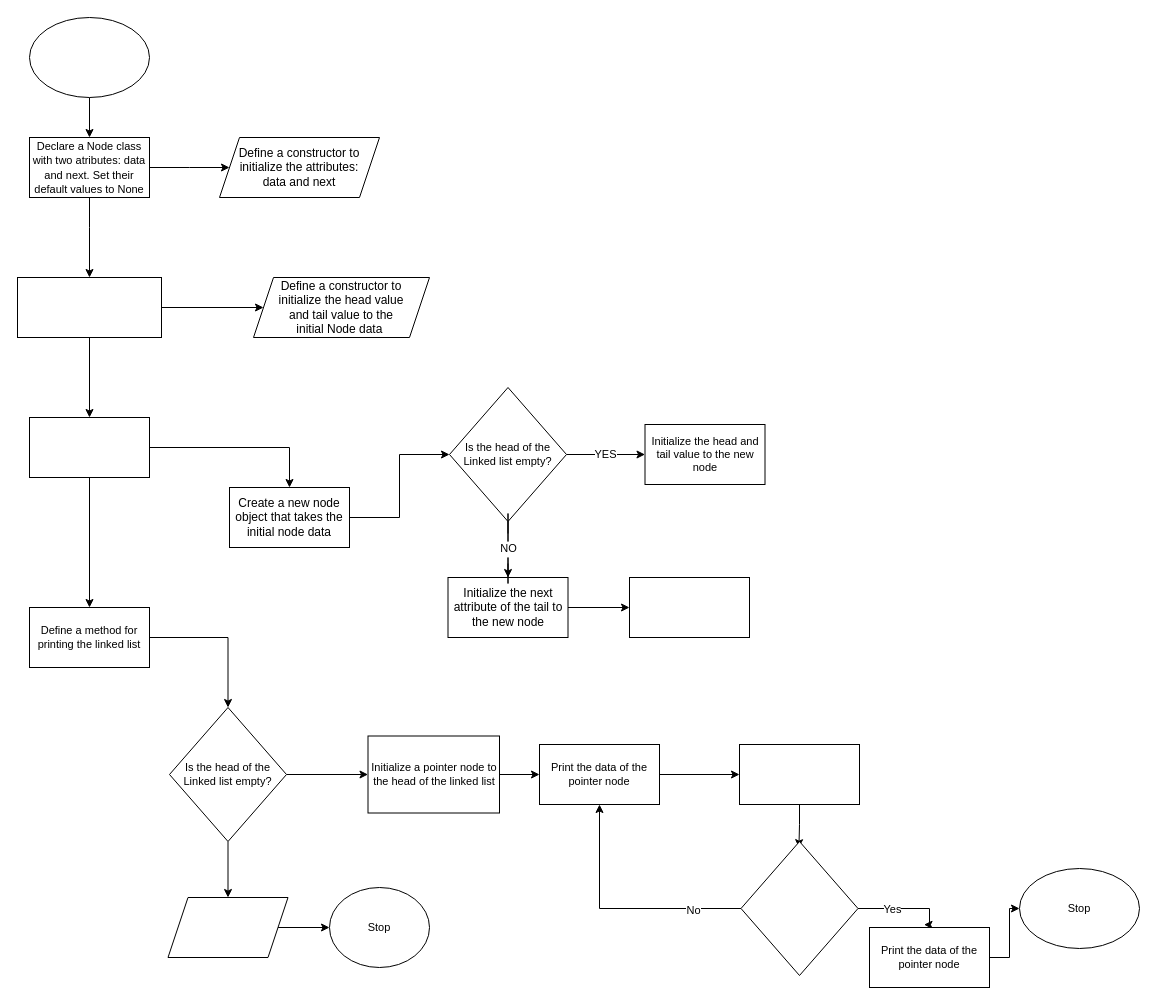
Some shapes in this 1157 by 1005 pixel diagram are drawn without their labels. Each missing label, with the box of its shape:
Declare a Linked List class with a single attribute: value: (16, 276, 162, 338)
Define a method that inserts a new node at the end of the Linked List: (28, 416, 150, 478)
Is next value null?: (740, 840, 858, 976)
Move the pointer node to the next node: (738, 744, 860, 804)
Print "Linked list is empty": (167, 896, 288, 958)
Set the tail of the linked list to the new node: (628, 576, 750, 638)
Start: (28, 16, 150, 98)
